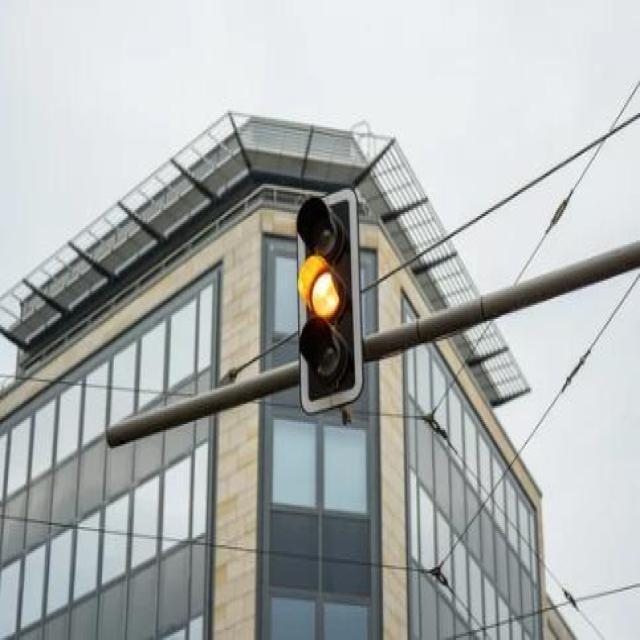yellow_light: (297, 190, 362, 401)
